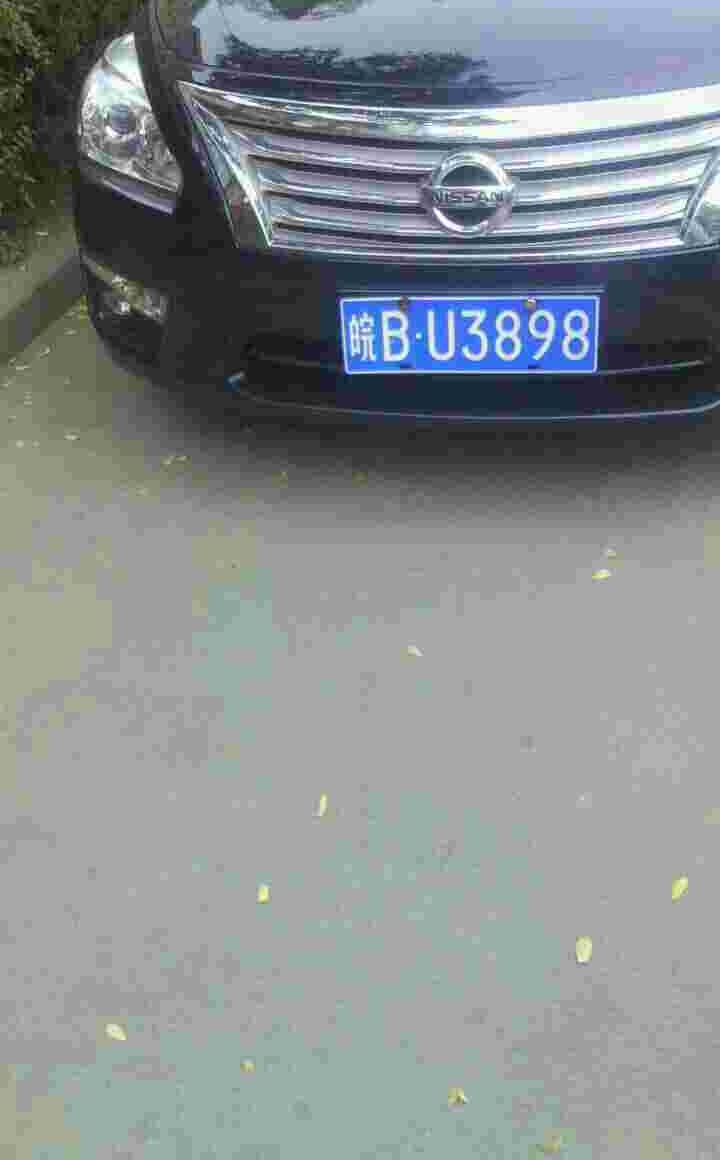plate: (342, 292, 603, 378)
